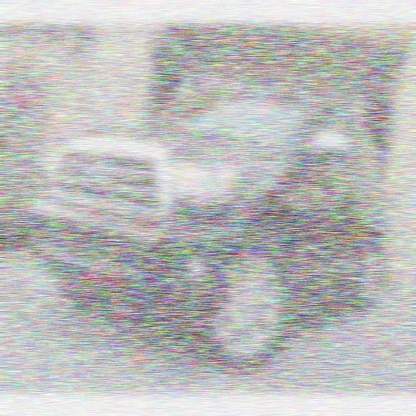Vehicle: (26, 89, 392, 370)
